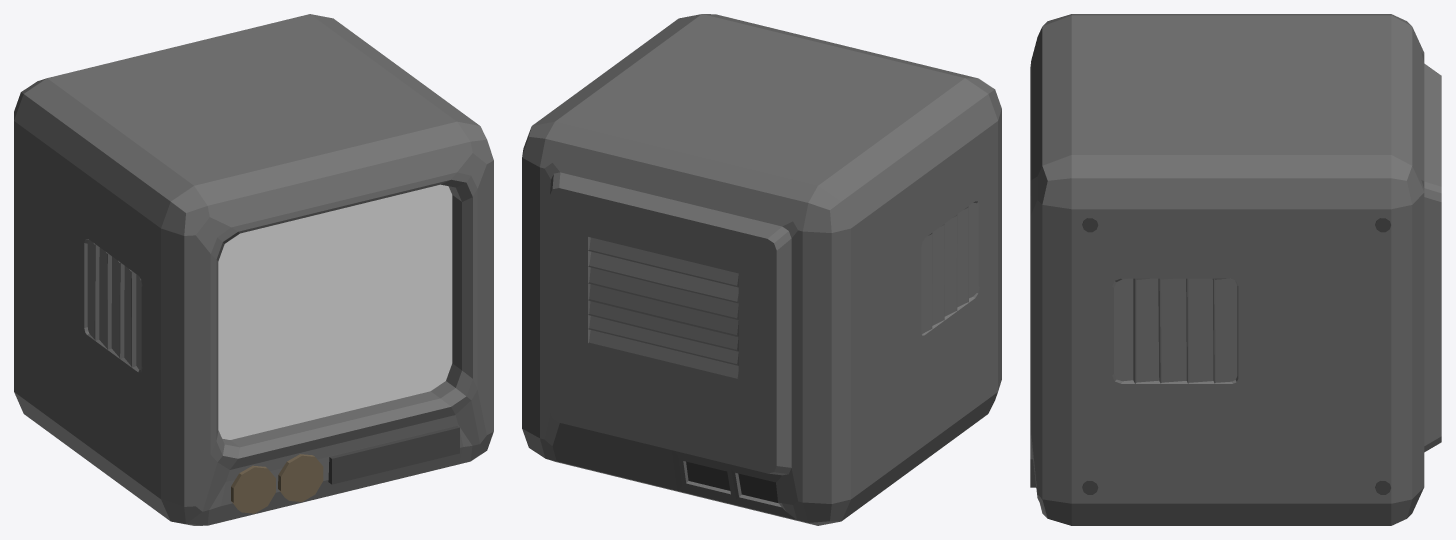
3 renders of one model, left to right at view 1: azimuth 30°, elevation 25°; view 2: azimuth 150°, elevation 25°; view 3: azimuth 270°, elevation 25°, orthographic. The views are drawn at different scales.
Parts seen in each view (by area): view 1: Cube.001, Cube.002, Cylinder.001, Cylinder.002; view 2: Cube.001; view 3: Cube.001, Cylinder.006.
Part boxes in pixels (left/top/right/bottom): Cube.001: left=14, top=14, right=493, bottom=525; Cube.002: left=328, top=426, right=459, bottom=484; Cylinder.001: left=278, top=454, right=323, bottom=501; Cylinder.002: left=231, top=465, right=275, bottom=513; Cube.001: left=522, top=14, right=1001, bottom=525; Cube.001: left=1030, top=14, right=1441, bottom=525; Cylinder.006: left=1082, top=217, right=1391, bottom=494.
Bounding box in the file's own units: 2 × 2 × 1.99.
